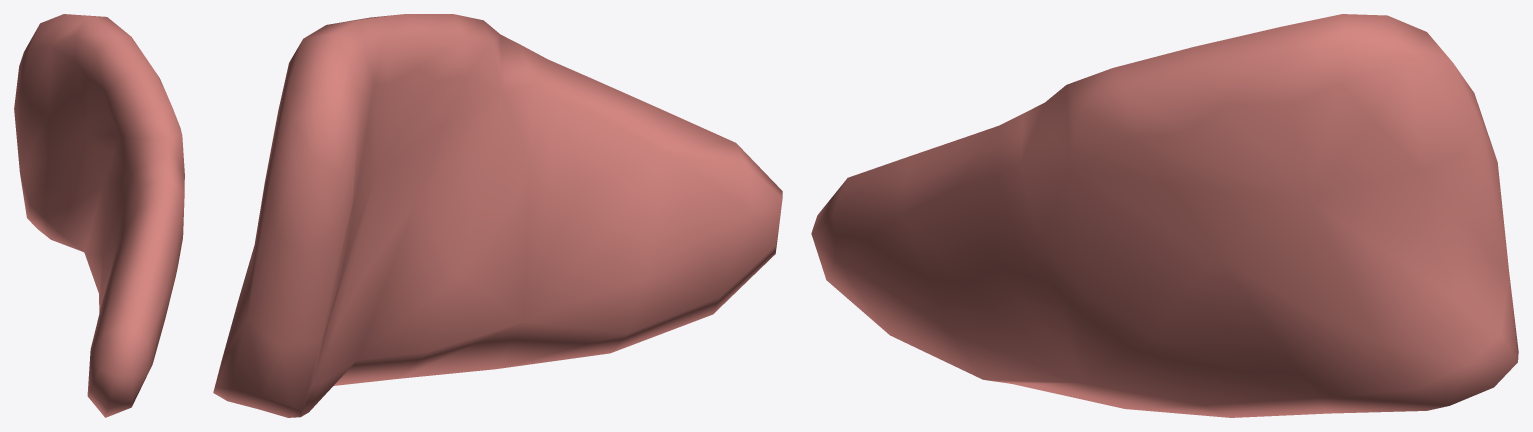
3 views of the same model, side by side, from view 1: azimuth 30°, elevation 25°; view 2: azimuth 150°, elevation 25°; view 3: azimuth 270°, elevation 25° (orthographic). The views are drawn at different scales.
Visible parts, largest first — view 1: ZA_6048238489bd8c5c; view 2: ZA_6048238489bd8c5c; view 3: ZA_6048238489bd8c5c.
Boxes of the visible parts, x1=… form: ZA_6048238489bd8c5c: x1=14, y1=14, x2=184, y2=417; ZA_6048238489bd8c5c: x1=213, y1=14, x2=782, y2=417; ZA_6048238489bd8c5c: x1=811, y1=14, x2=1518, y2=417.
Size of the model in its own units: 0.00168 by 0.00226 by 0.00334.
